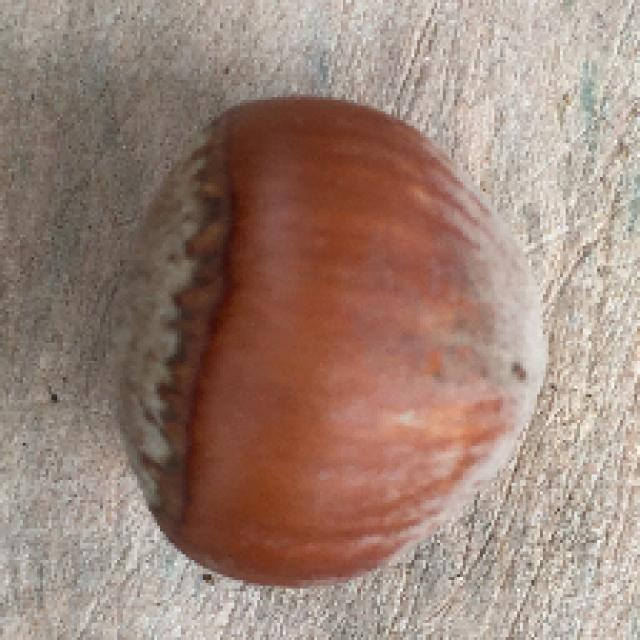QualityHazelnut: (109, 102, 553, 589)
